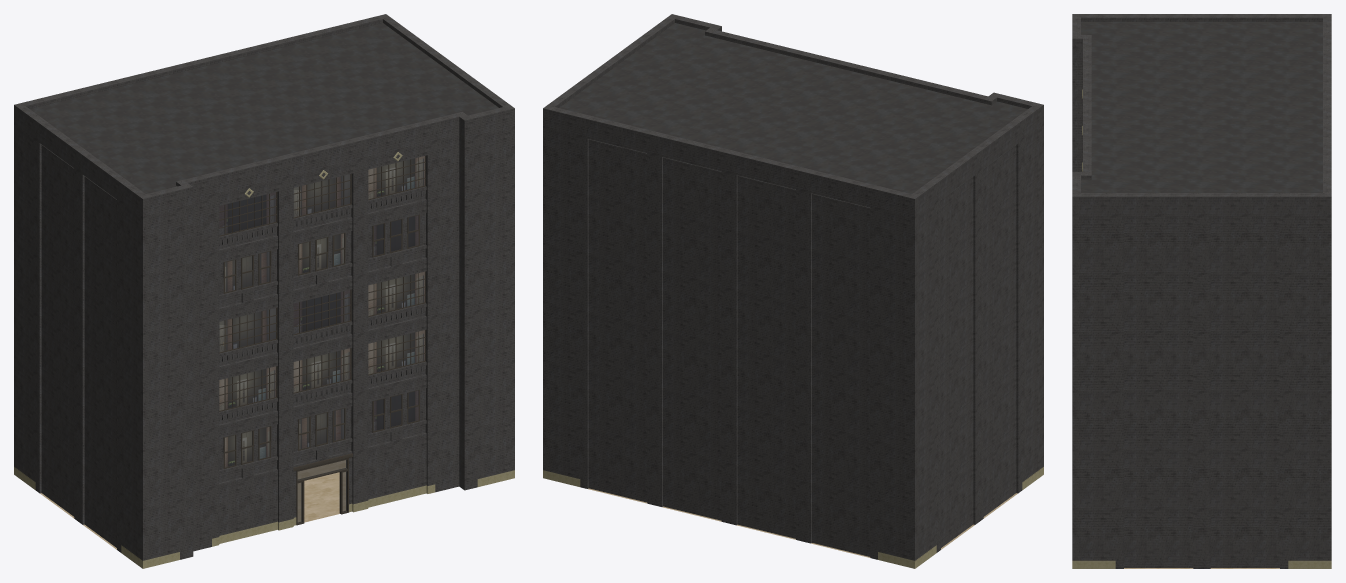
Rendered from Building_Small_2.glb.
The picture shows the model from 3 angles, left to right: view 1: azimuth 30°, elevation 25°; view 2: azimuth 150°, elevation 25°; view 3: azimuth 270°, elevation 25°; orthographic projection.
Parts seen in each view (by area): view 1: Building_Small_2; view 2: Building_Small_2; view 3: Building_Small_2.
Boxes of the visible parts, bbox=[...] form: Building_Small_2: bbox=[14, 14, 514, 568]; Building_Small_2: bbox=[543, 14, 1043, 568]; Building_Small_2: bbox=[1072, 14, 1331, 568].
Size of the model in its own units: 20 by 19 by 12.
10 materials, 9 textured.
